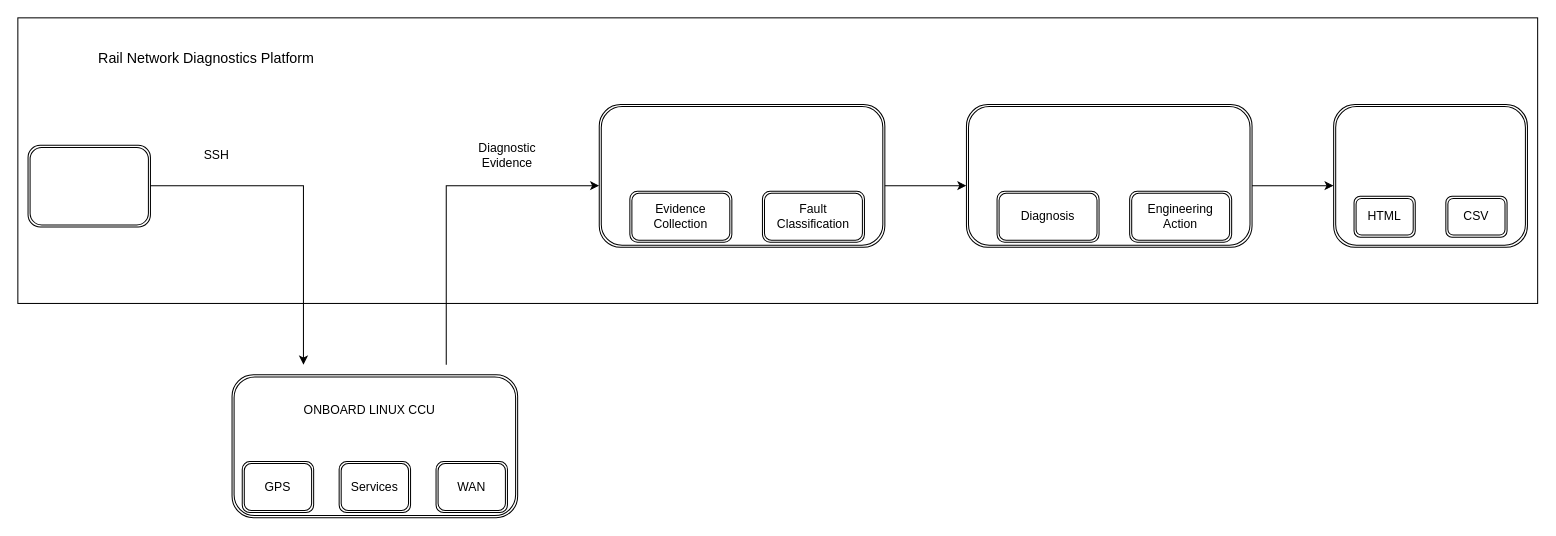
The diagram is 1556 pixels wide and 536 high, and some of its shapes have lost their labels. The box of each missing label's shape, as (x1, y1, x2, y2) in pixels:
DIAGNOSTIC ENGINE: (598, 104, 885, 247)
FAULT ASSESSMENT: (965, 104, 1252, 247)
FLEET HEALTH REPORTING: (1333, 104, 1527, 247)
FLEET INVENTORY: (27, 144, 150, 227)
